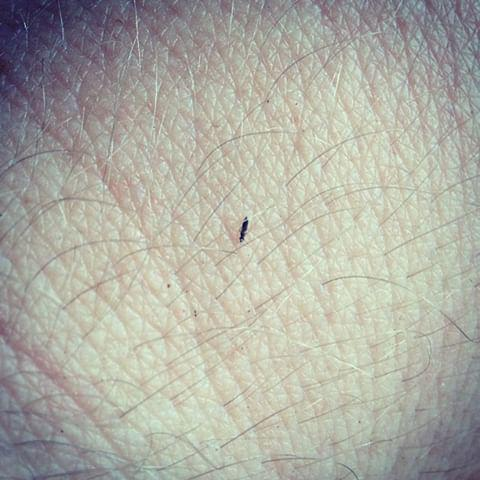tiny_pests: (233, 210, 257, 249)
